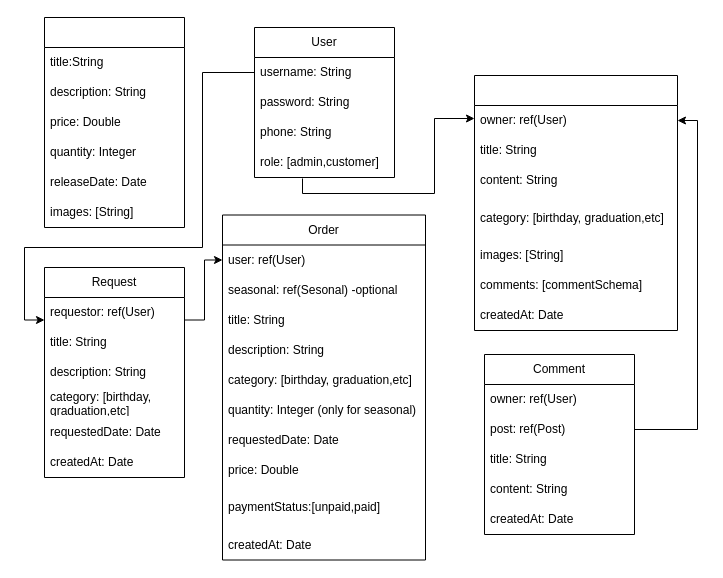
The diagram is 723 pixels wide and 578 high, and some of its shapes have lost their labels. Each missing label, with the box of its shape:
Post: (474, 74, 678, 330)
Seasonal: (44, 16, 184, 228)
